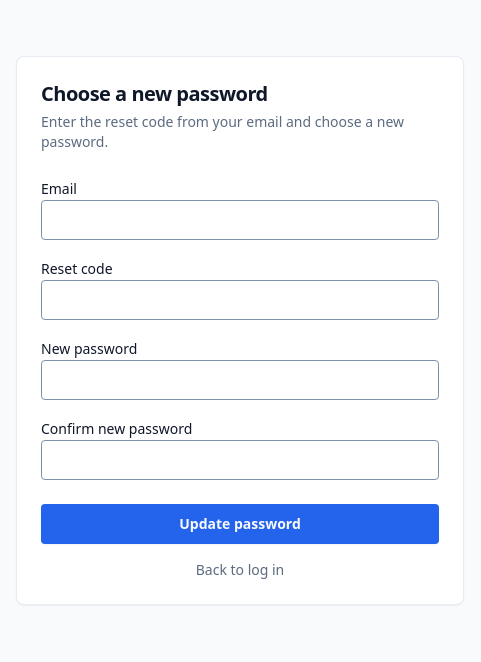
ResetPasswordPage › validates password strength and confirmation before updating
Type "sarah@example.com" into the field labelled "Email" at [240, 220], box x1=41 y1=200 x2=439 y2=240
Type "123456" into the field labelled "Reset code" at [240, 300], box x1=41 y1=280 x2=439 y2=320
Type "short" into the password field labelled "New password" at [240, 380], box x1=41 y1=360 x2=439 y2=400
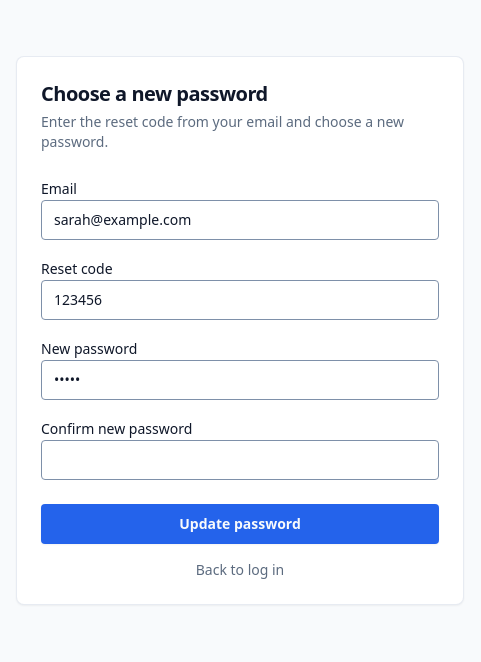
Type "short" into the password field labelled "Confirm new password" at [240, 460], box x1=41 y1=440 x2=439 y2=480
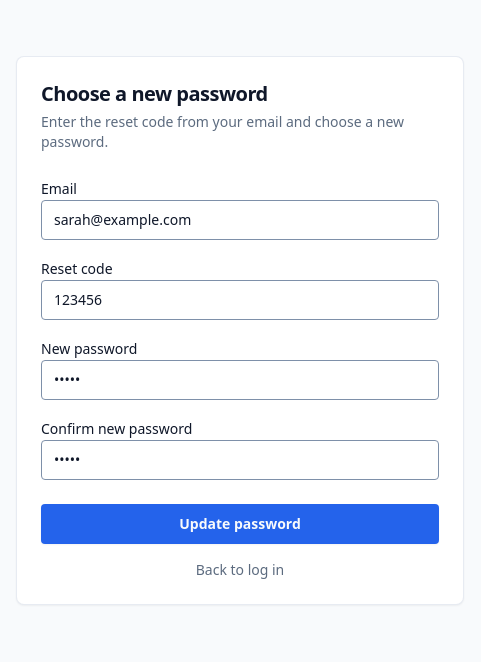
Click the button "Update password" at [240, 524], box x1=41 y1=504 x2=439 y2=544
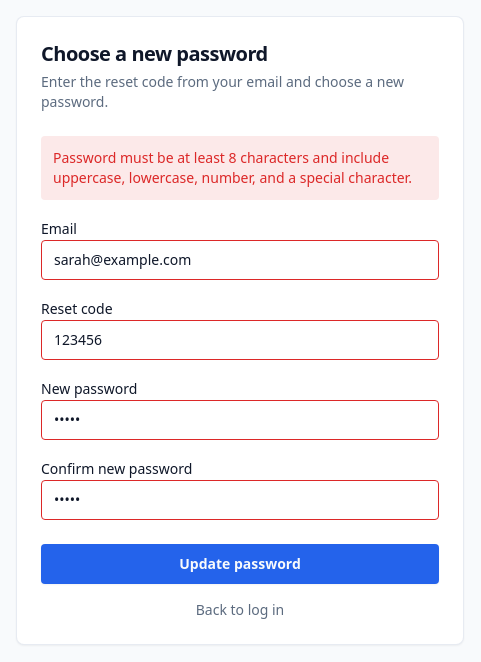
Check: the text "Password must be at least 8 characters and include uppercase, lowercase, number, and a special character." is shown, box x1=53 y1=148 x2=412 y2=186
Type "CorrectHorse1!" into the password field labelled "New password" at [240, 420], box x1=41 y1=400 x2=439 y2=440
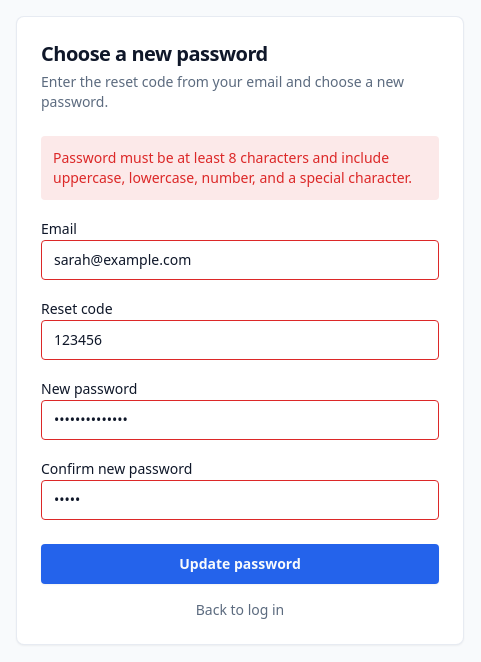
Type "different-password" into the password field labelled "Confirm new password" at [240, 500], box x1=41 y1=480 x2=439 y2=520
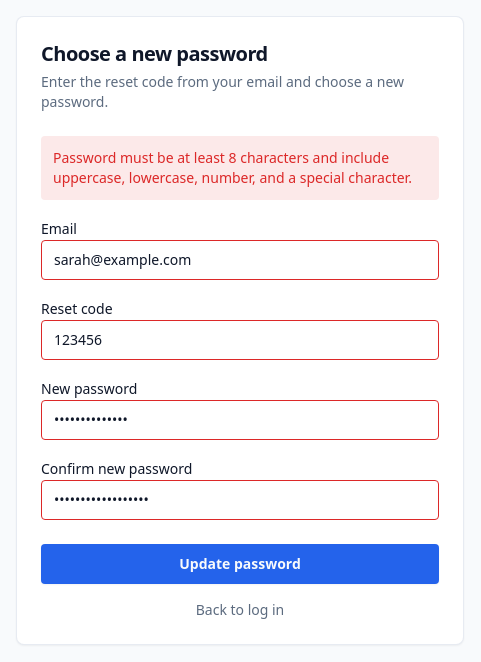
Click the button "Update password" at [240, 564], box x1=41 y1=544 x2=439 y2=584
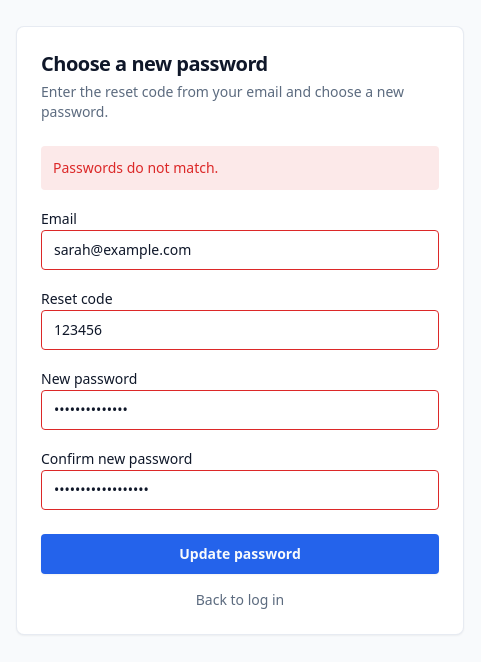
Check: the text "Passwords do not match." is shown, box x1=41 y1=146 x2=439 y2=190
